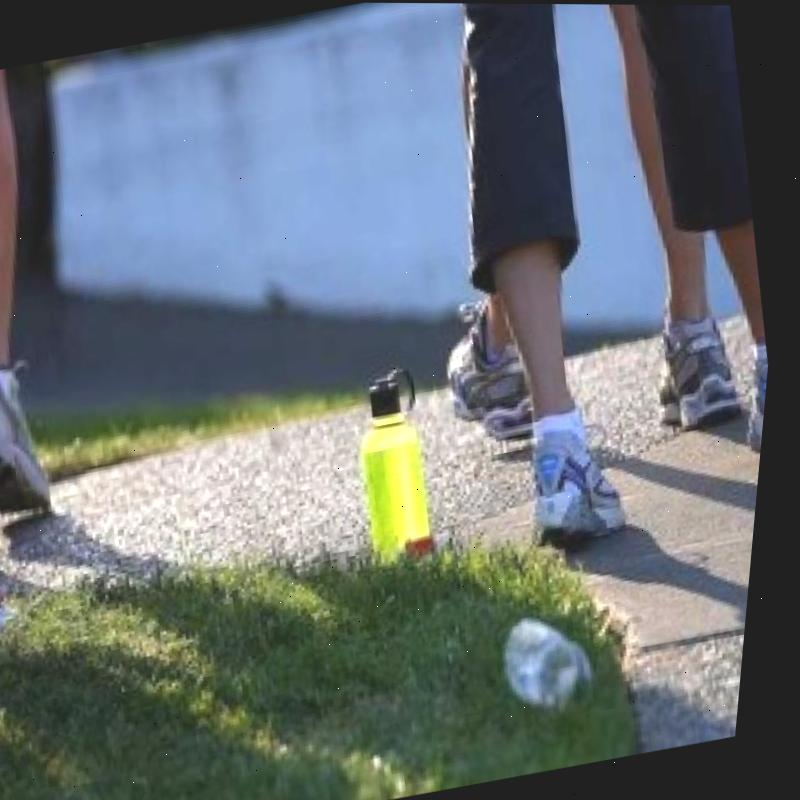botella: (496, 607, 619, 713)
